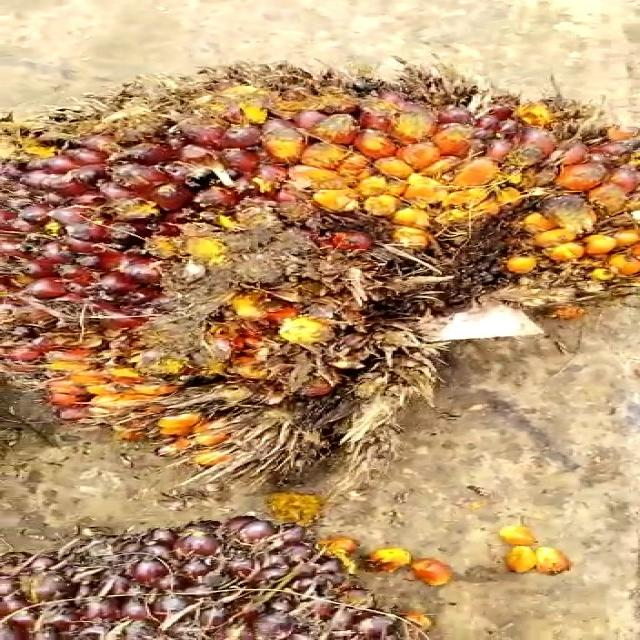palm oil: (0, 62, 640, 502)
